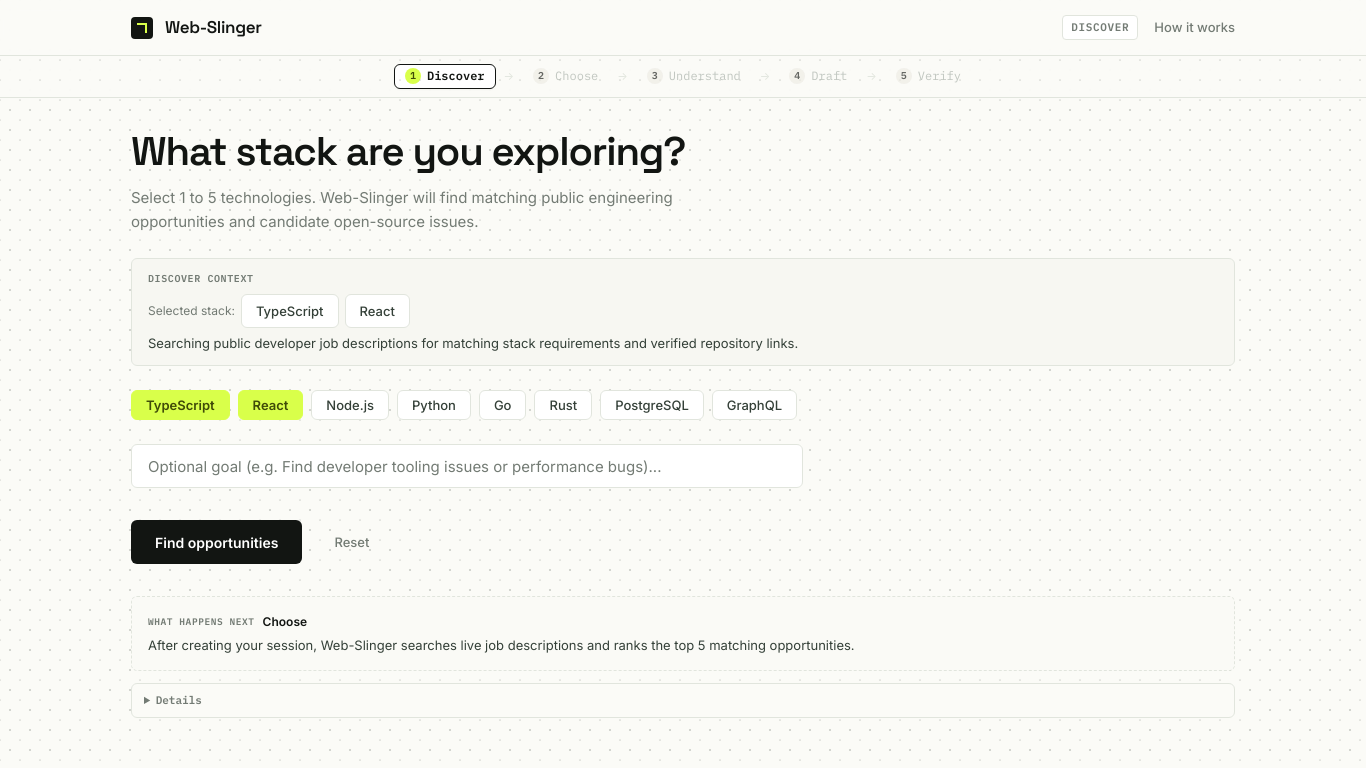
App Decision Canvas Flow & Accessibility › creates live session and transitions to confirmed state with Start research action
Click the button "Find opportunities" at coordinates (217, 542), box [131,520,302,564]
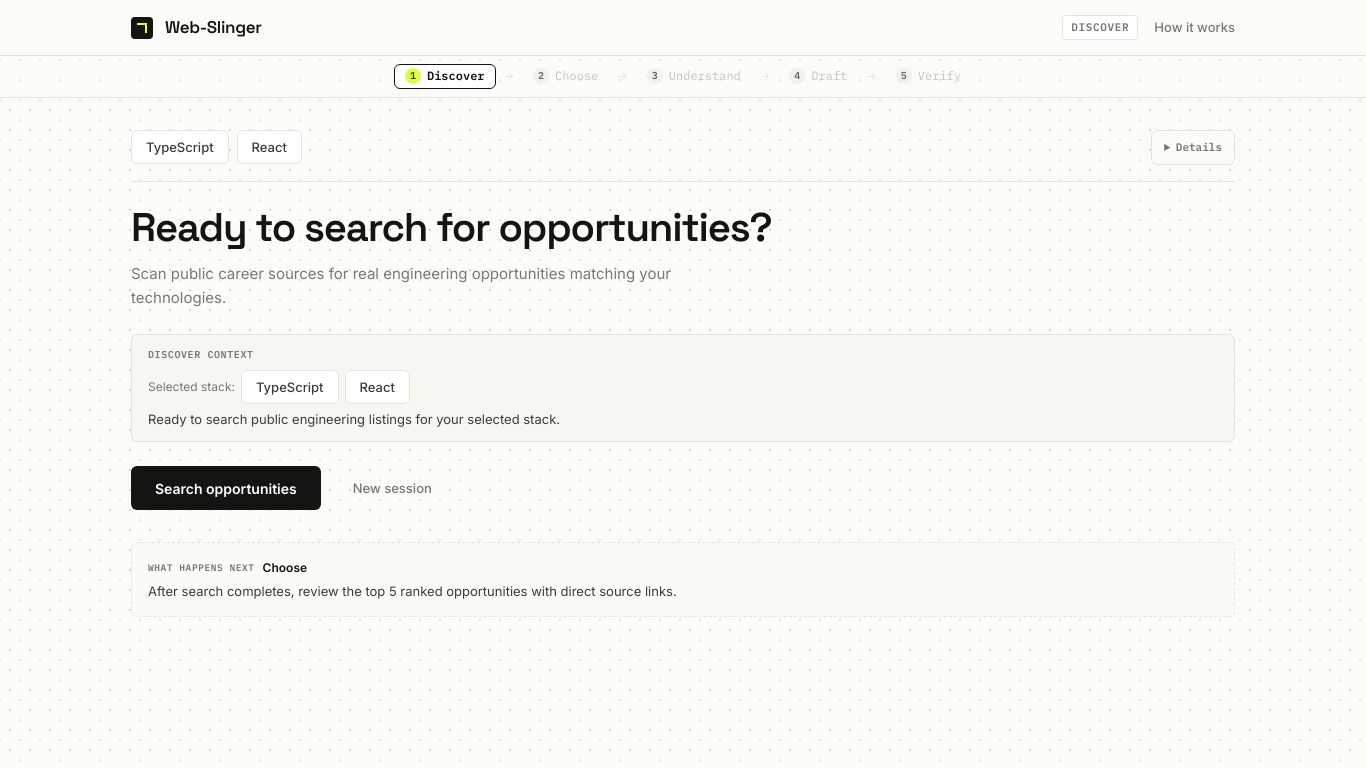
Result: the heading "Ready to search for opportunities?" is shown at [131,202,772,253]
Result: the button "Search opportunities" is shown at [131,466,321,510]
